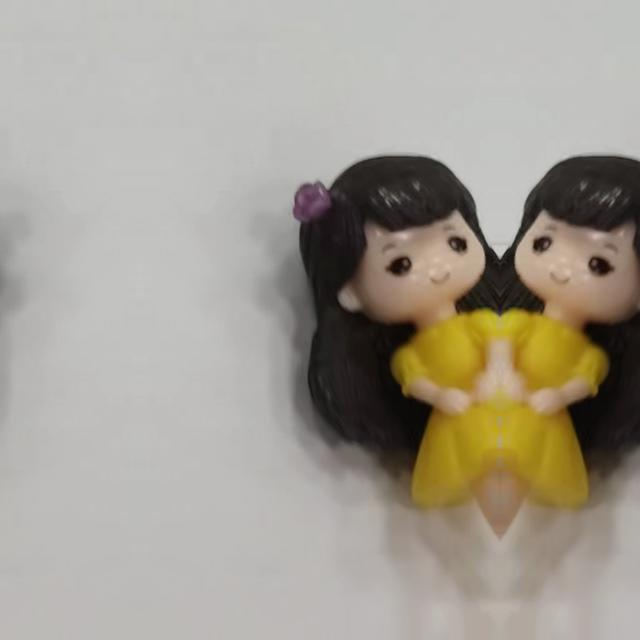woman head: (290, 146, 498, 314), (502, 146, 640, 313)
